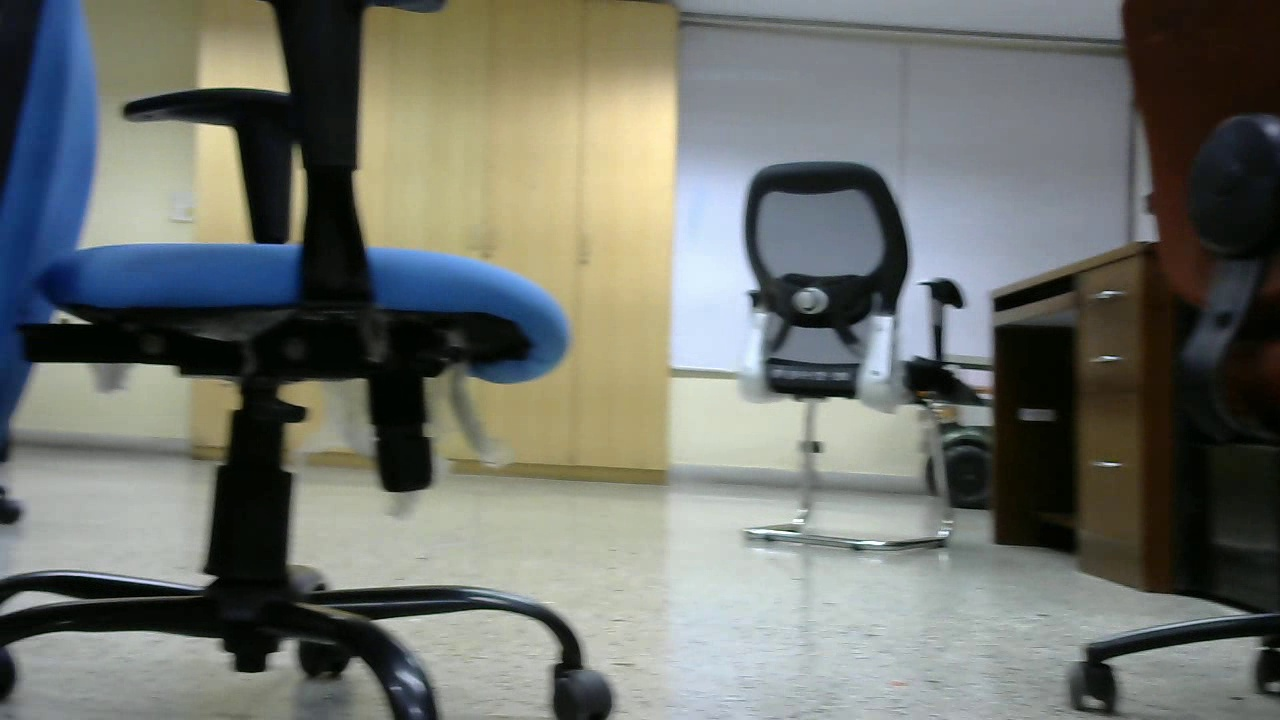chair: (53, 63, 643, 720), (709, 151, 960, 558)
